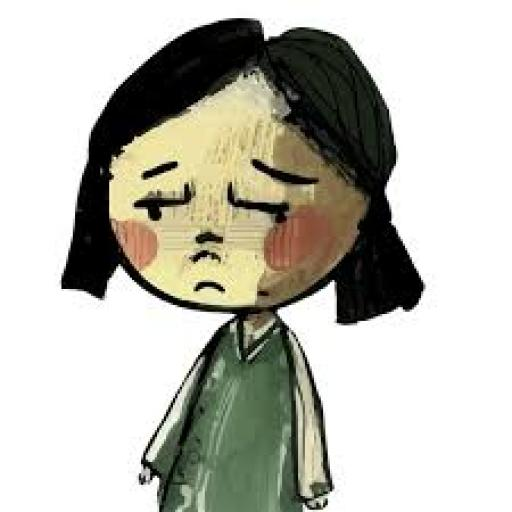person: (53, 14, 426, 510)
